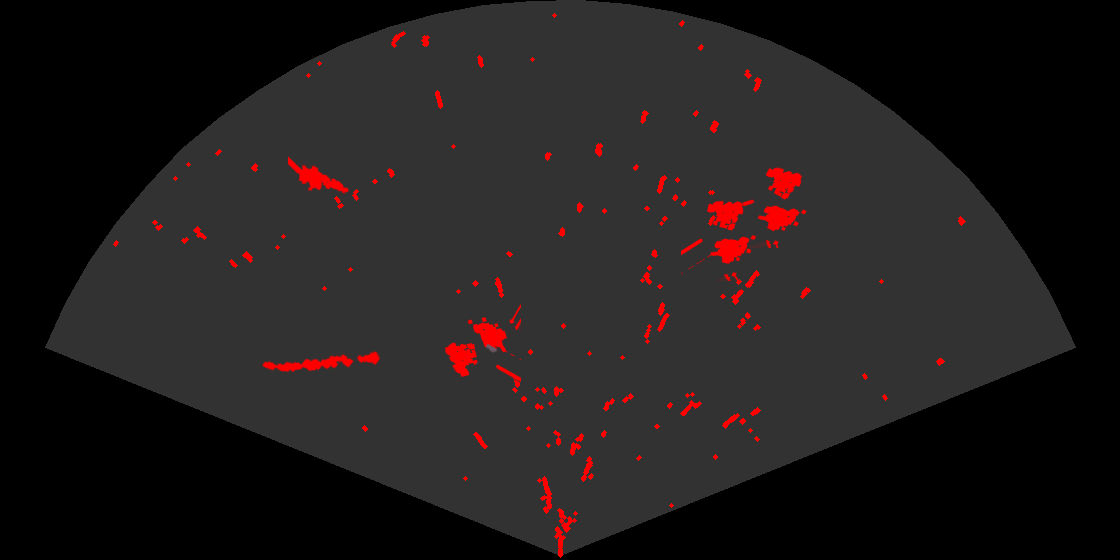cage: (681, 199, 758, 281), (443, 303, 521, 383), (742, 166, 808, 248)
chain: (261, 350, 383, 374)
frogman: (288, 155, 350, 195)
